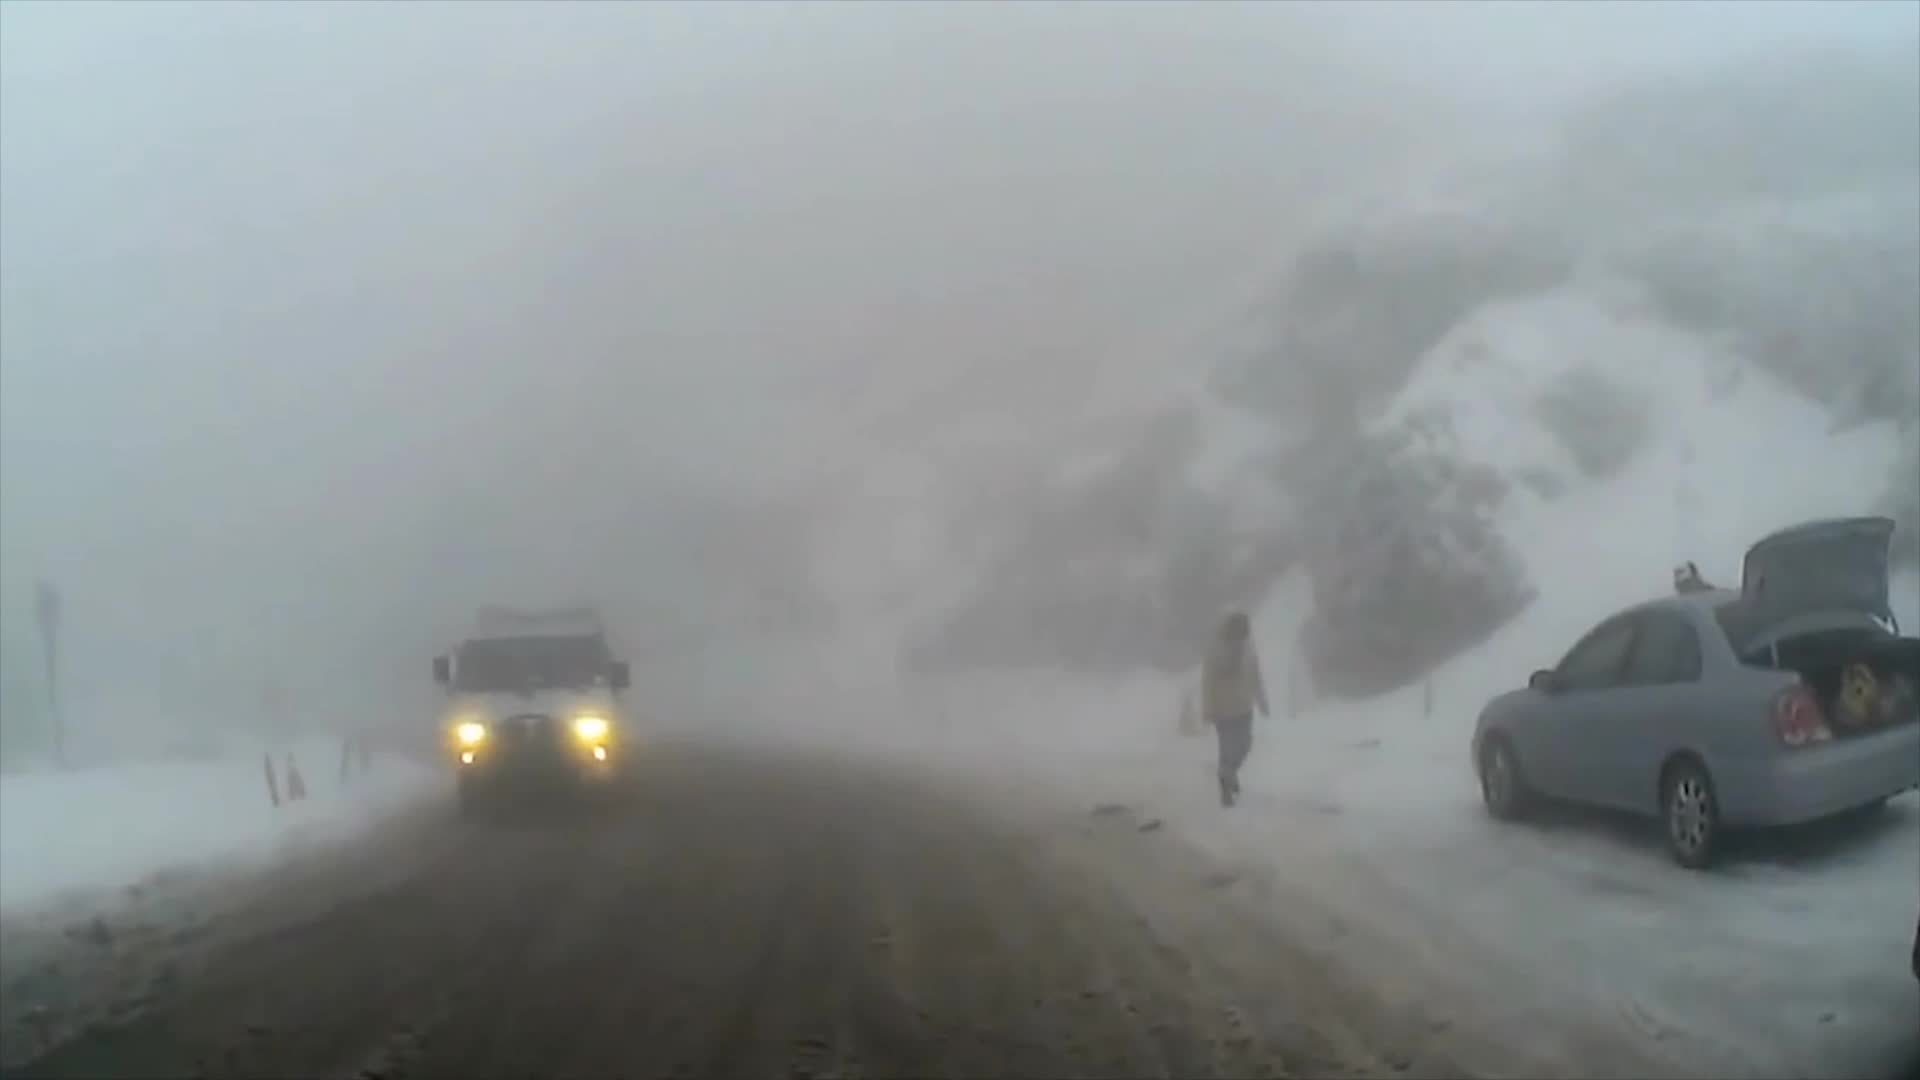pedestrian: (1196, 600, 1275, 801)
vehicle: (1469, 505, 1920, 868), (427, 600, 633, 819)
